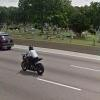Motorcycle: (17, 50, 46, 78)
